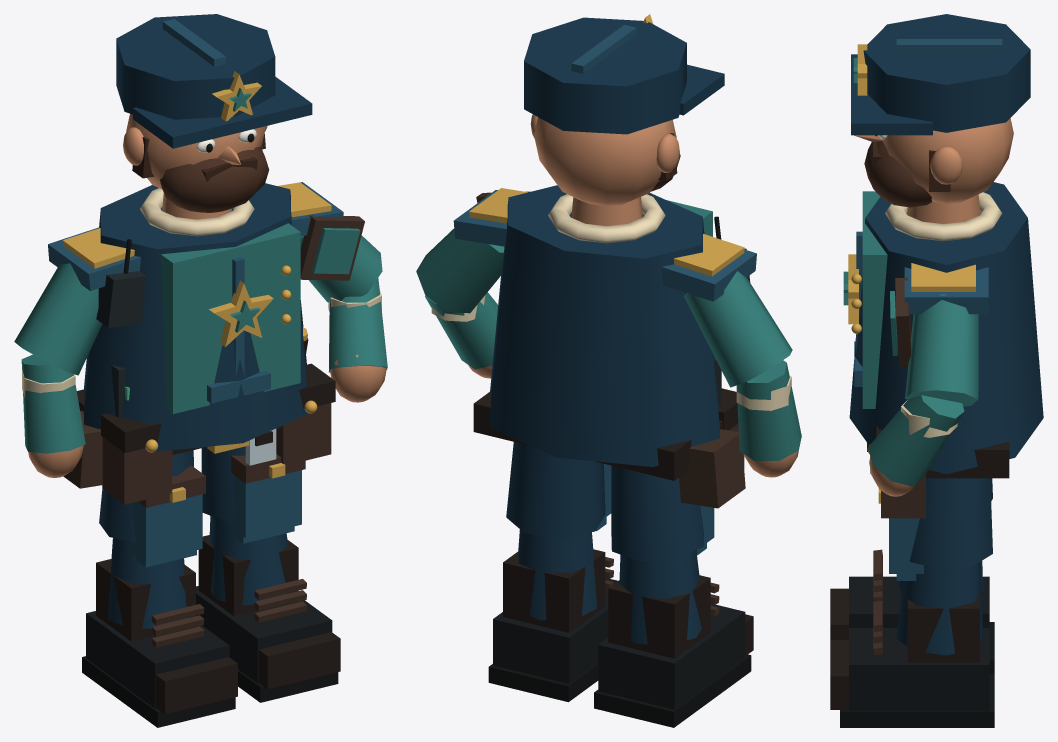
The model's file is asset.glb.
The picture shows the model from 3 angles, left to right: view 1: azimuth 30°, elevation 25°; view 2: azimuth 150°, elevation 25°; view 3: azimuth 270°, elevation 25°; orthographic projection. The views are drawn at different scales.
Visible parts, largest first — view 1: LowPoly_PoliceOfficer; view 2: LowPoly_PoliceOfficer; view 3: LowPoly_PoliceOfficer.
Part boxes in pixels (x1=…): LowPoly_PoliceOfficer: x1=14, y1=14, x2=387, y2=727; LowPoly_PoliceOfficer: x1=416, y1=14, x2=801, y2=727; LowPoly_PoliceOfficer: x1=830, y1=14, x2=1043, y2=727.
Bounding box in the file's own units: 2.16 × 3.62 × 1.09.
